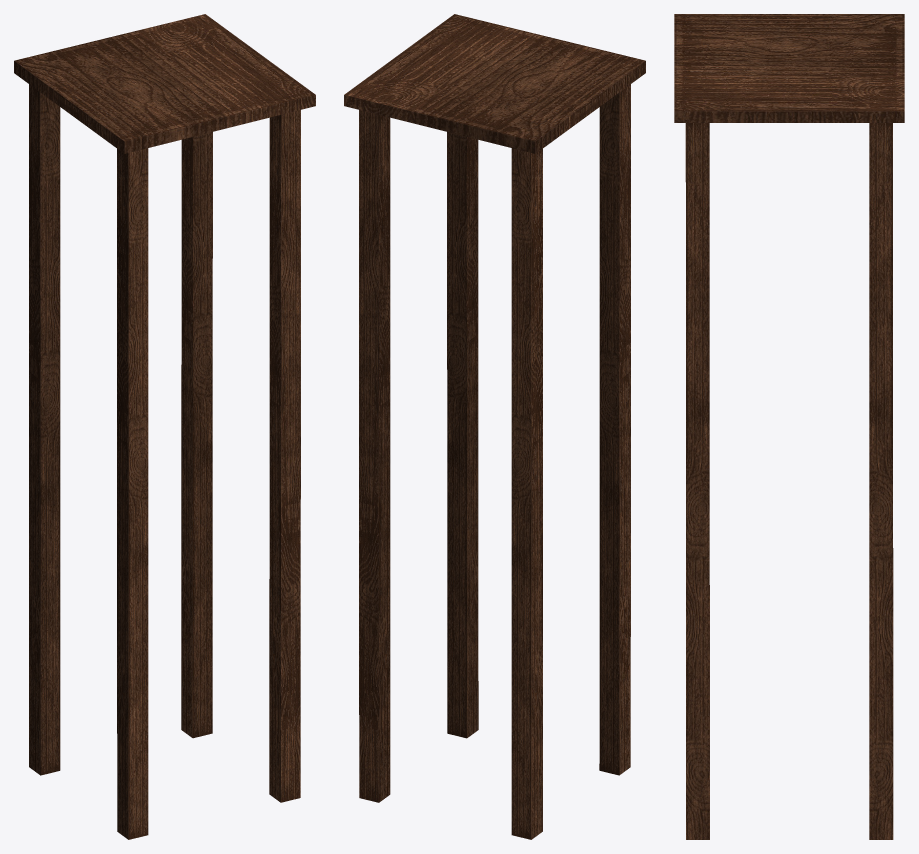
The model's file is tower.FBX.
3 renders of one model, left to right at view 1: azimuth 30°, elevation 25°; view 2: azimuth 150°, elevation 25°; view 3: azimuth 270°, elevation 25°, orthographic. The views are drawn at different scales.
Visible parts, largest first — view 1: polySurface37; view 2: polySurface37; view 3: polySurface37.
Part boxes in pixels (x1,y1,x2,y2): polySurface37: (14,14,315,839); polySurface37: (344,14,645,839); polySurface37: (674,14,904,839).
Bounding box in the file's own units: 2.6 × 9.13 × 2.6.
